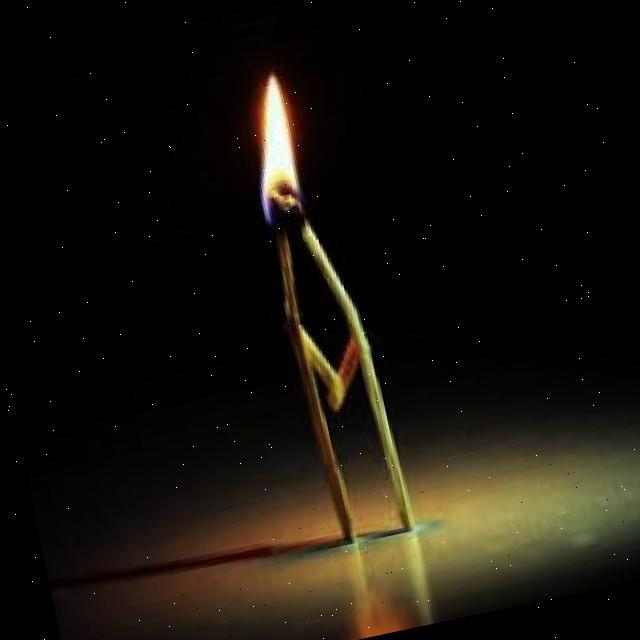fire: (236, 70, 308, 222)
